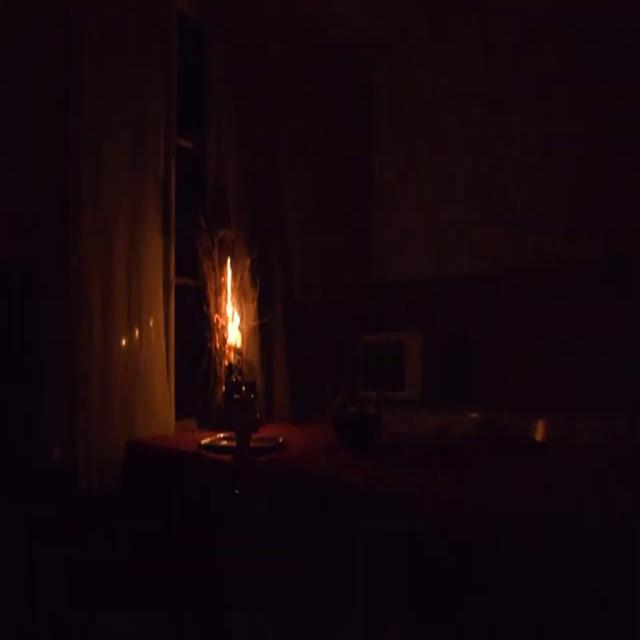Fire: (219, 245, 248, 367)
